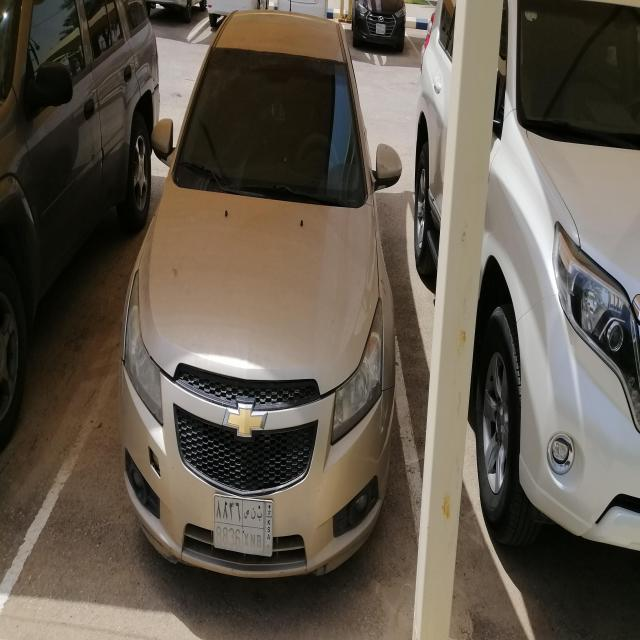license_plate: (213, 494, 274, 560), (376, 24, 386, 35)
